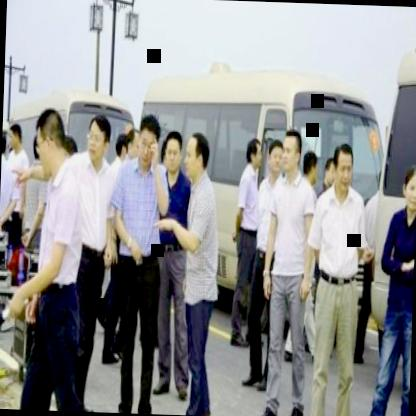head: (33, 106, 71, 173), (184, 127, 212, 182), (84, 112, 112, 164), (137, 114, 162, 170), (330, 142, 355, 194), (280, 126, 303, 178), (161, 128, 184, 177), (300, 148, 322, 193), (400, 159, 416, 215), (266, 140, 286, 182), (244, 136, 262, 172), (126, 126, 142, 164), (7, 118, 22, 154), (112, 128, 126, 166)
